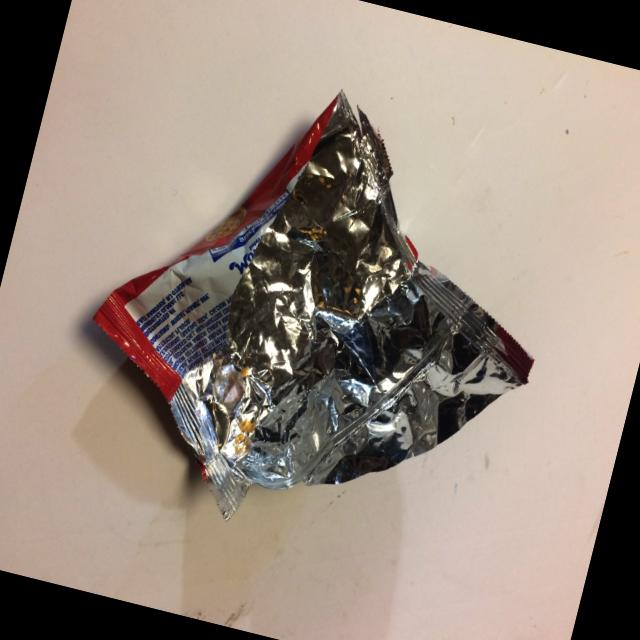Plastic: (44, 24, 600, 592)
